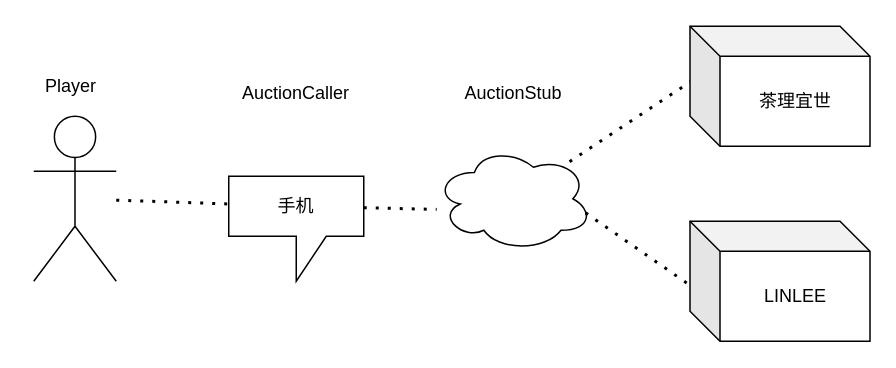
Some shapes in this 896 by 368 pixel diagram are drawn without their labels. Each missing label, with the box of its shape:
森保: (32, 115, 116, 281)
美团/饿了么: (434, 145, 592, 251)
